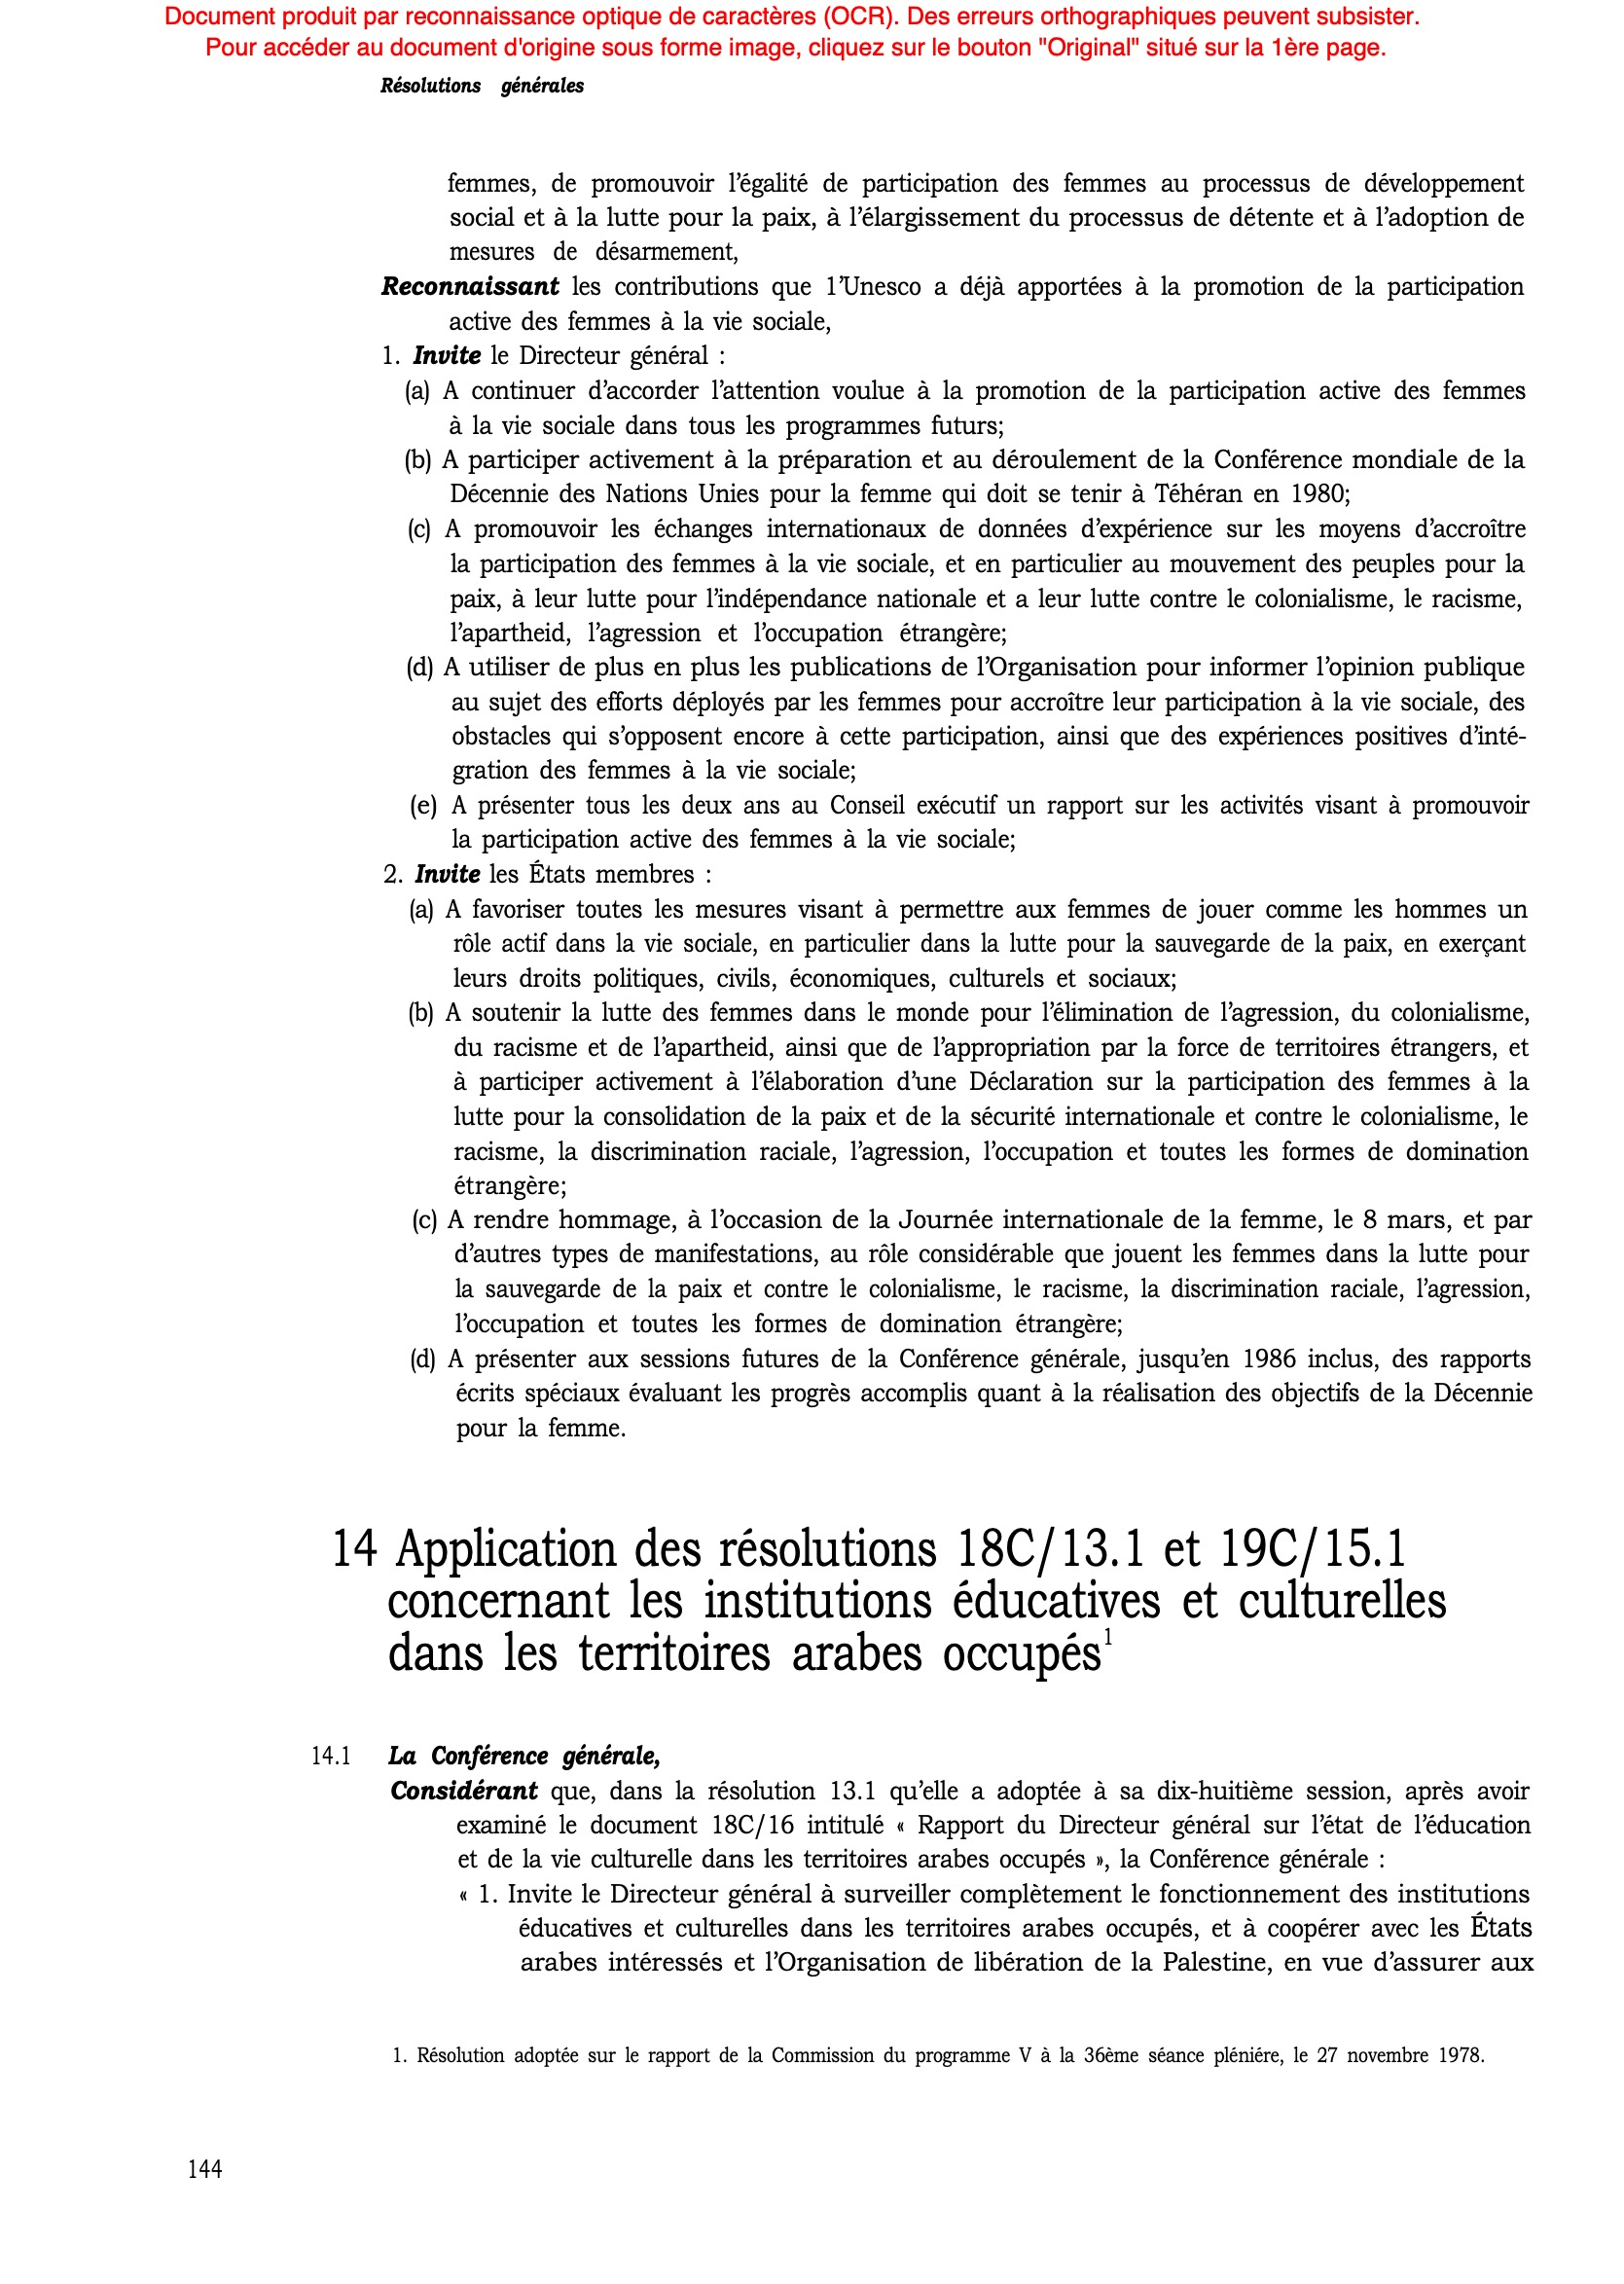DigitizationArtefactZone: (144, 0, 1434, 62)
MainZone-Continued: (371, 161, 1535, 270)
MainZone-Head: (315, 1513, 1457, 1686), (298, 1729, 671, 1776)
MainZone-ListItem: (383, 995, 1537, 1203), (391, 1199, 1538, 1343), (382, 510, 1534, 652), (381, 650, 1535, 782), (392, 1339, 1539, 1452), (380, 889, 1539, 995), (451, 1885, 1543, 1980), (372, 366, 1535, 445), (383, 785, 1536, 859), (379, 440, 1533, 512), (375, 859, 715, 886), (374, 340, 734, 364)
MainZone-P: (370, 1770, 1542, 1879), (357, 269, 1531, 343)
MarginTextZone-Notes: (377, 2032, 1501, 2083)
NumberingZone: (177, 2146, 232, 2194)
RunningTitleZone: (368, 68, 595, 100)
